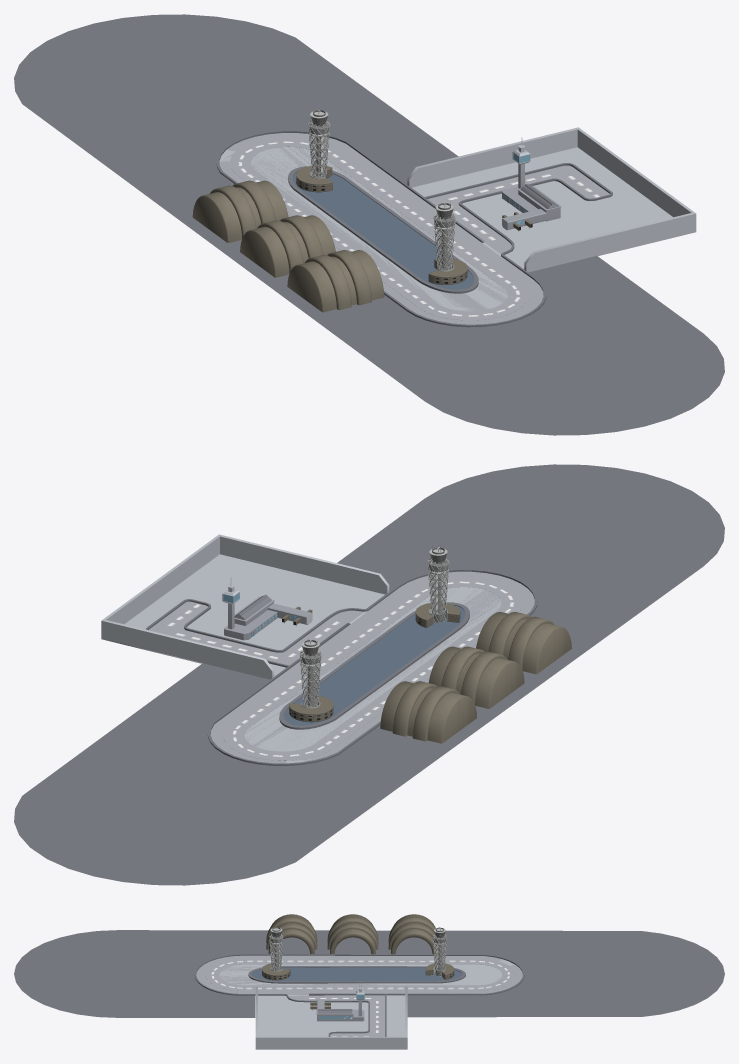
The model's file is Airport.fbx.
3 renders of one model, top to bottom at view 1: azimuth 30°, elevation 25°; view 2: azimuth 150°, elevation 25°; view 3: azimuth 270°, elevation 25°, orthographic. The views are drawn at different scales.
Parts seen in each view (by area): view 1: Circle, Cylinder.001, Circle.001, Cube.001, BezierCircle.001, BezierCircle.026; view 2: Circle, Cylinder.001, Circle.001, Cube.001, BezierCircle.001, BezierCircle.026; view 3: Circle, Cylinder.001, Circle.001, Cube.001, BezierCircle.026, BezierCircle.001.
Boxes of the visible parts, x1=… form: Circle: x1=14, y1=14, x2=724, y2=435; Cylinder.001: x1=192, y1=180, x2=384, y2=312; Circle.001: x1=288, y1=166, x2=478, y2=293; Cube.001: x1=502, y1=145, x2=561, y2=231; BezierCircle.001: x1=296, y1=109, x2=332, y2=192; BezierCircle.026: x1=428, y1=201, x2=467, y2=284; Circle: x1=14, y1=464, x2=724, y2=885; Cylinder.001: x1=380, y1=612, x2=571, y2=743; Circle.001: x1=279, y1=602, x2=469, y2=729; Cube.001: x1=222, y1=584, x2=312, y2=640; BezierCircle.001: x1=289, y1=639, x2=333, y2=722; BezierCircle.026: x1=415, y1=546, x2=460, y2=627; Circle: x1=14, y1=930, x2=724, y2=1049; Cylinder.001: x1=266, y1=914, x2=436, y2=954; Circle.001: x1=248, y1=966, x2=465, y2=983; Cube.001: x1=310, y1=987, x2=364, y2=1021; BezierCircle.026: x1=262, y1=927, x2=290, y2=980; BezierCircle.001: x1=425, y1=927, x2=454, y2=979.
Size of the model in its own units: 205 by 39.77 by 518.
3 materials, 3 textured.
